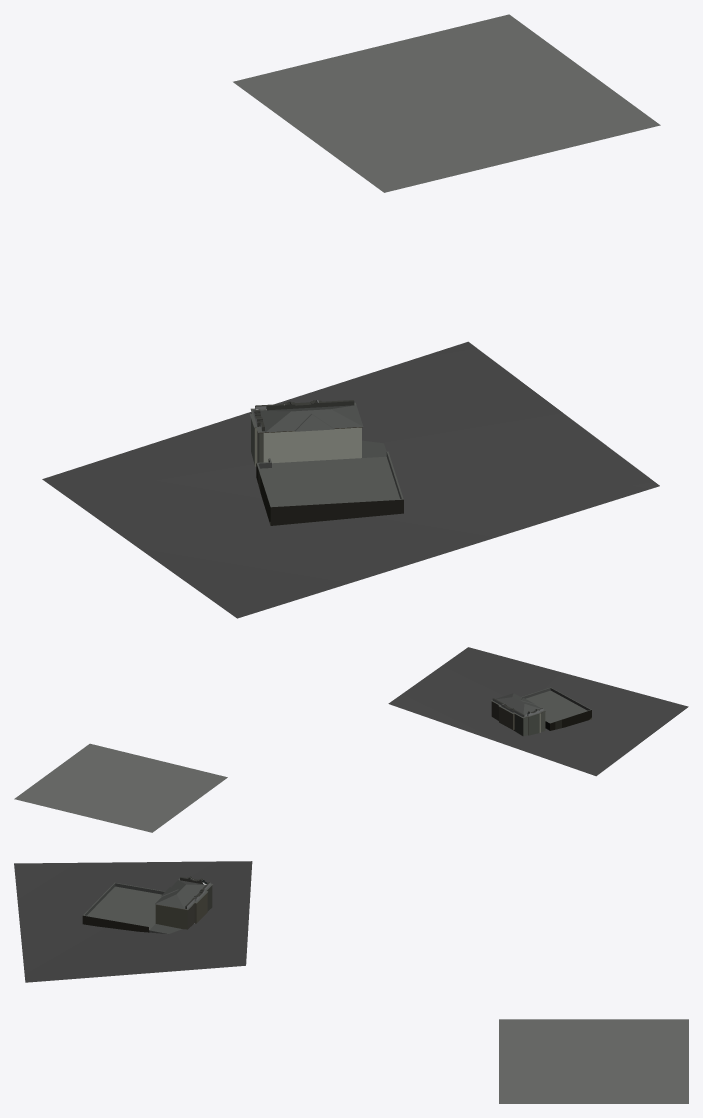
File: the-chattanooga-carnegie-law-library.glb
3 renders of one model, top to bottom at view 1: azimuth 30°, elevation 25°; view 2: azimuth 150°, elevation 25°; view 3: azimuth 270°, elevation 25°, orthographic. The views are drawn at different scales.
Parts seen in each view (by area): view 1: LOD0; view 2: LOD0; view 3: LOD0.
Boxes of the visible parts, x1,y1,x2,y2 form: LOD0: (42, 14, 660, 618); LOD0: (14, 647, 688, 832); LOD0: (14, 861, 688, 1103).
Size of what is drawn, in the model's own units: 245 by 17.13 by 280.
Materials: 3 (3 with a texture image).
